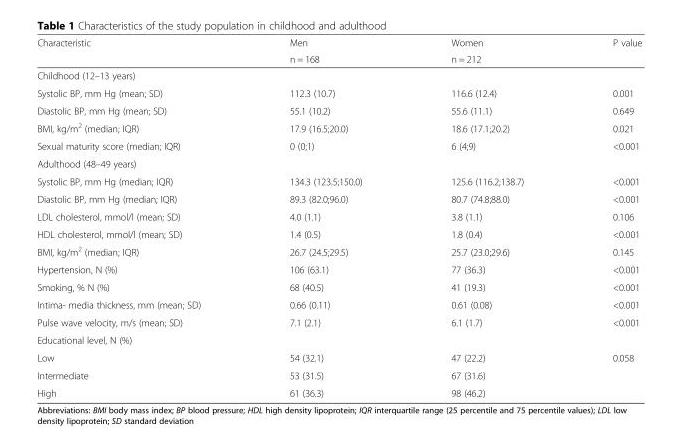table: (36, 36, 641, 398)
table column: (36, 36, 244, 398), (244, 36, 406, 398), (406, 36, 567, 398), (567, 36, 641, 398)
table column header: (36, 36, 641, 66)
table projected row header: (36, 66, 641, 84), (36, 154, 641, 172), (36, 330, 641, 348)
table row: (36, 66, 641, 84), (36, 118, 641, 136), (36, 136, 641, 154), (36, 154, 641, 172), (36, 189, 641, 207), (36, 207, 641, 225), (36, 242, 641, 260), (36, 260, 641, 278), (36, 295, 641, 313), (36, 330, 641, 348), (36, 348, 641, 366), (36, 84, 641, 101), (36, 101, 641, 118), (36, 172, 641, 189), (36, 225, 641, 242), (36, 278, 641, 295), (36, 313, 641, 330), (36, 366, 641, 383), (36, 50, 641, 66), (36, 383, 641, 398), (36, 36, 641, 50)
table spanning cell: (36, 36, 244, 66), (244, 36, 406, 66), (406, 36, 567, 66), (567, 36, 641, 66)
